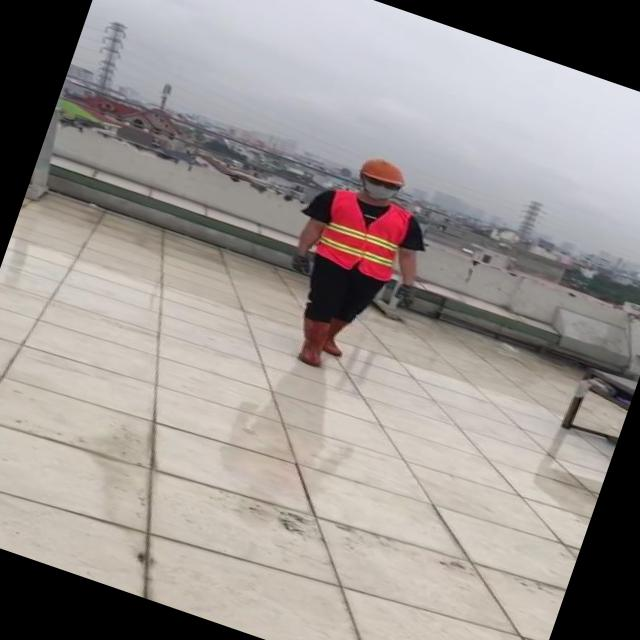hard_hat: (352, 150, 416, 192)
safety_vest: (313, 186, 412, 281)
vehicle: (253, 135, 461, 395)
work_boots: (288, 311, 336, 368), (319, 314, 358, 359)
